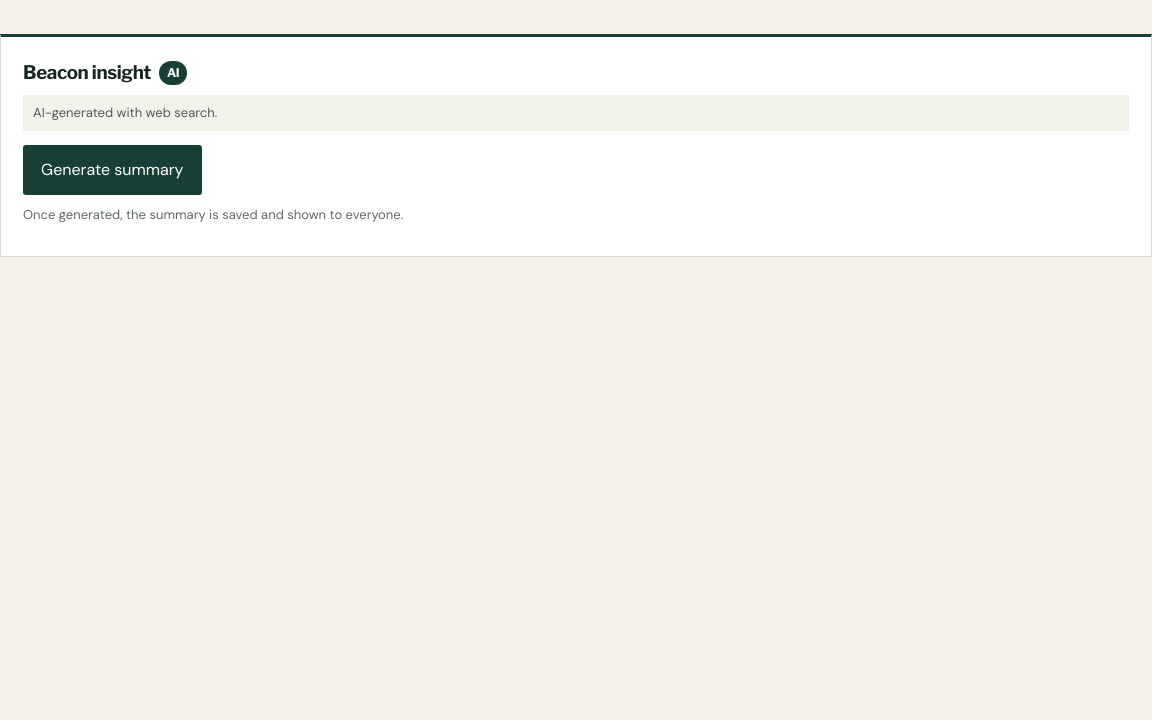
Test case: BeaconCard › generates, polls while pending, then shows the cached insight
Later steps or results of the test are not shown.
Click the button "Generate summary": coordinates (112, 170) [23,145,202,195]
Wait 3100 ms
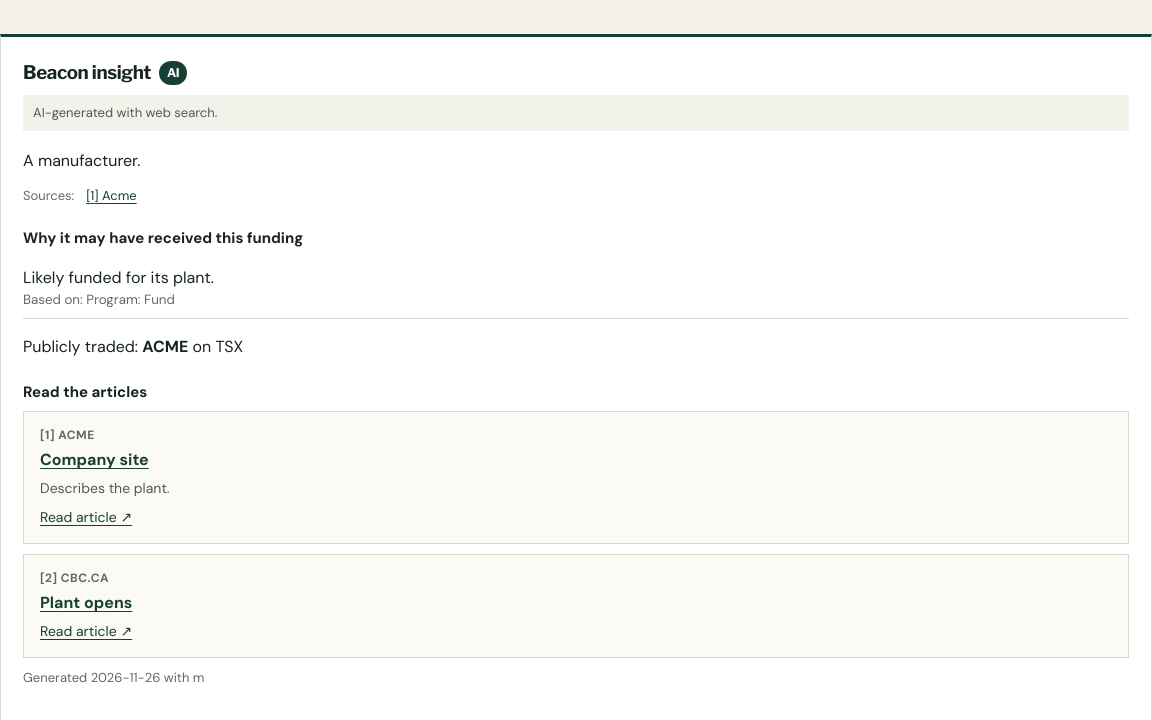
expect the text "A manufacturer." is shown: met, box [23,150,140,171]
expect the list item "Likely funded for its plant." is shown: met, box [23,267,214,288]
expect the text "ACME" is shown: met, box [142,336,188,357]
